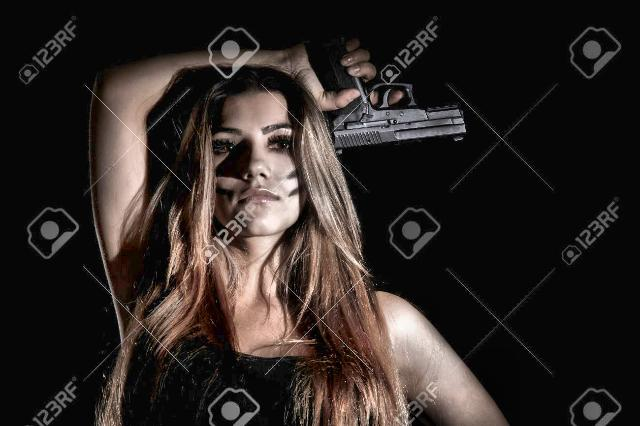pistol: (314, 68, 468, 148)
